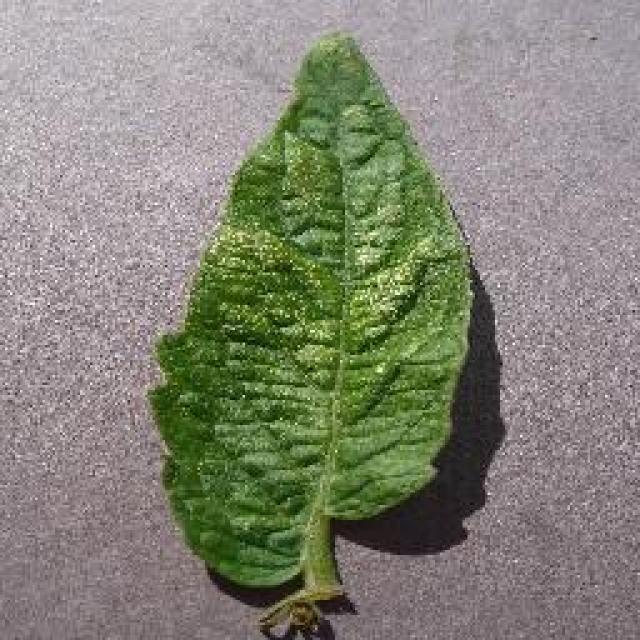Tomato___Spider_mites Two-spotted_spider_mite: (150, 32, 470, 630)
